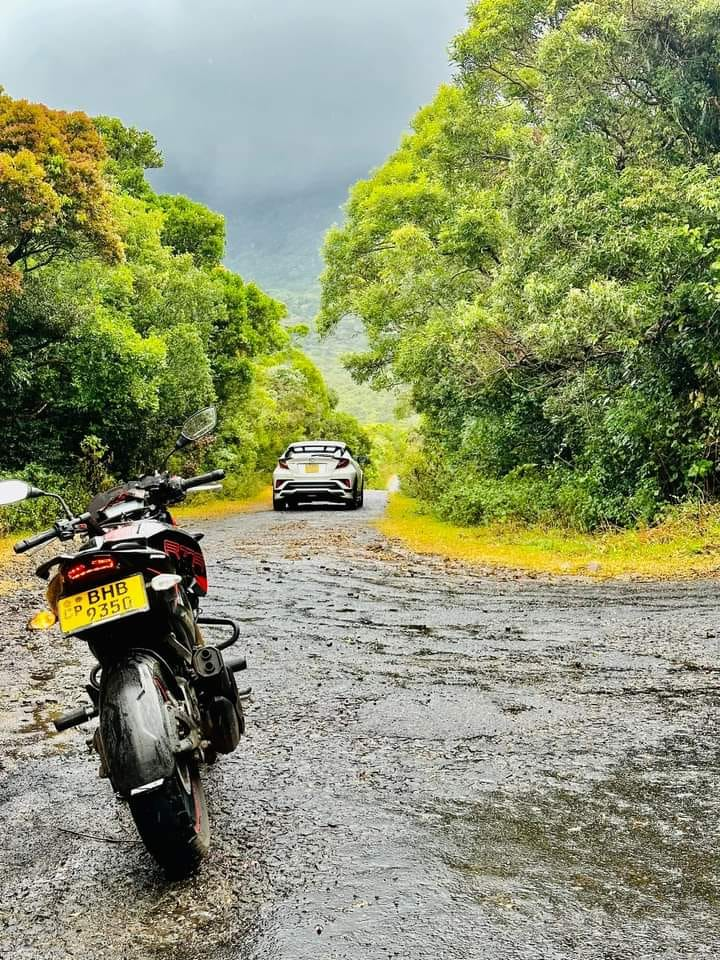number_plate: (51, 571, 145, 629)
